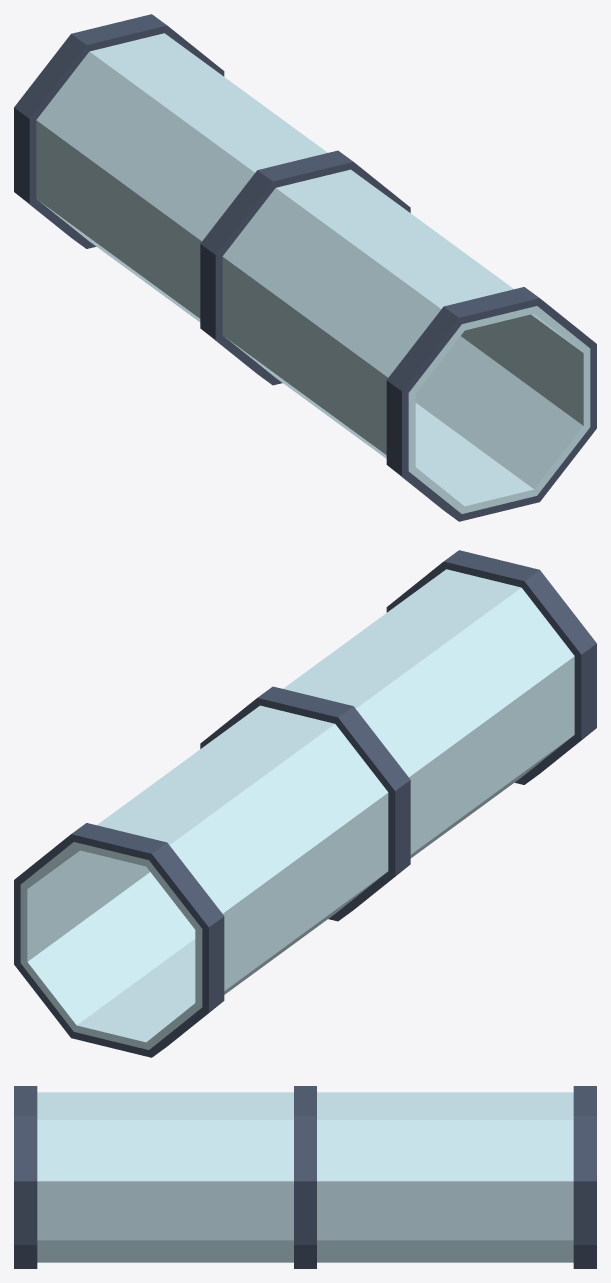
Rendered from SM_RatTube_Straight_2m.glb.
3 views of the same model, one above another, from view 1: azimuth 30°, elevation 25°; view 2: azimuth 150°, elevation 25°; view 3: azimuth 270°, elevation 25° (orthographic). The views are drawn at different scales.
Parts seen in each view (by area): view 1: SM_RatTube_Straight_2m-col; view 2: SM_RatTube_Straight_2m-col; view 3: SM_RatTube_Straight_2m-col.
Boxes of the visible parts, box(x1,y1,x2,y2) form: SM_RatTube_Straight_2m-col: box(14, 14, 596, 521); SM_RatTube_Straight_2m-col: box(14, 550, 596, 1057); SM_RatTube_Straight_2m-col: box(14, 1086, 596, 1268).
Size of the model in its own units: 0.58 by 0.58 by 2.
